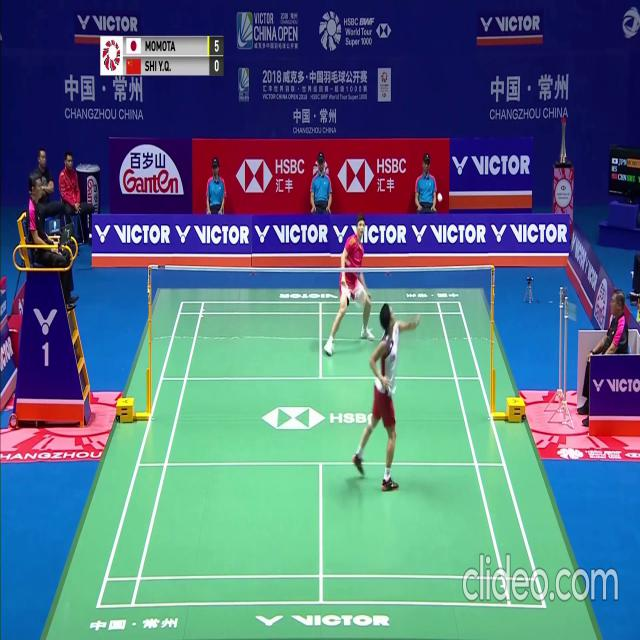Shuttlecock: (438, 194, 442, 201)
